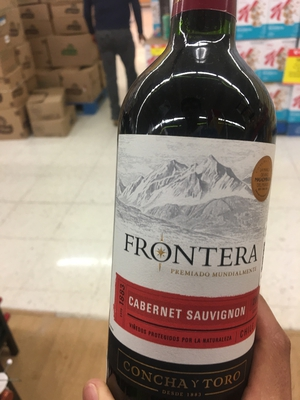frontera cabernet sauvignon: (100, 8, 281, 400)
